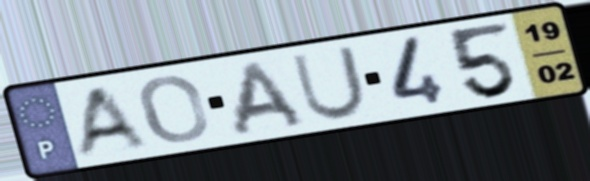4: (386, 31, 455, 110)
5: (442, 18, 520, 101)
A: (229, 57, 311, 139), (70, 82, 151, 162)
O: (135, 73, 212, 146)
U: (288, 43, 371, 123)
